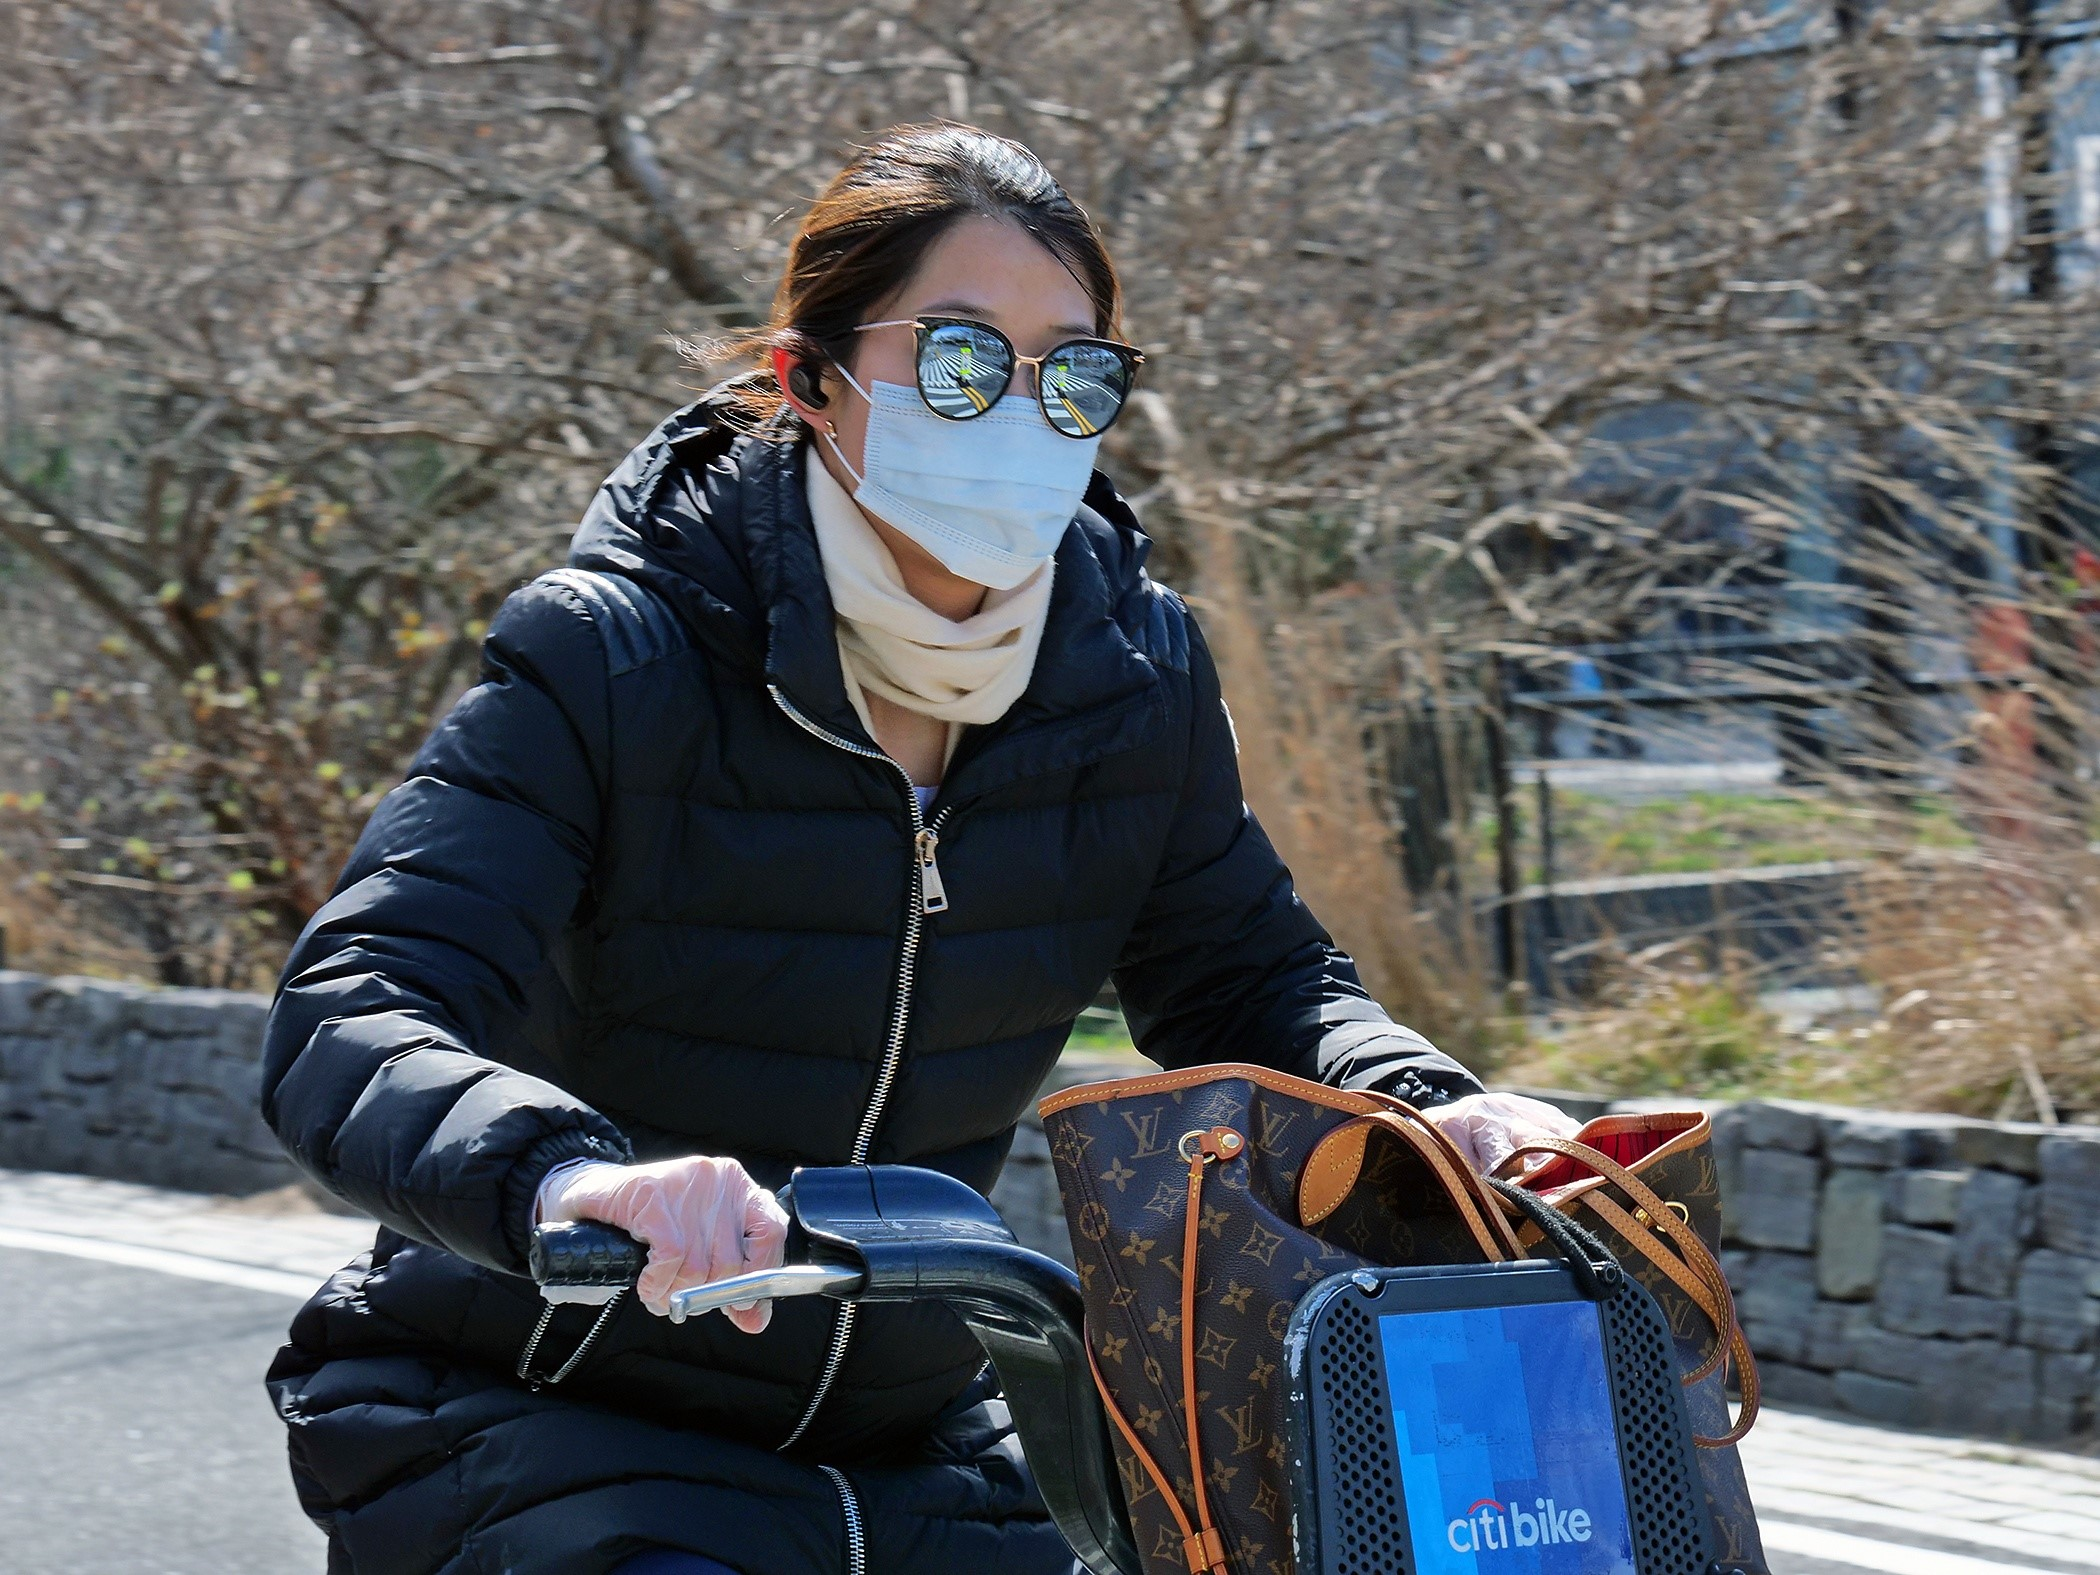face_with_mask: (807, 188, 1135, 609)
